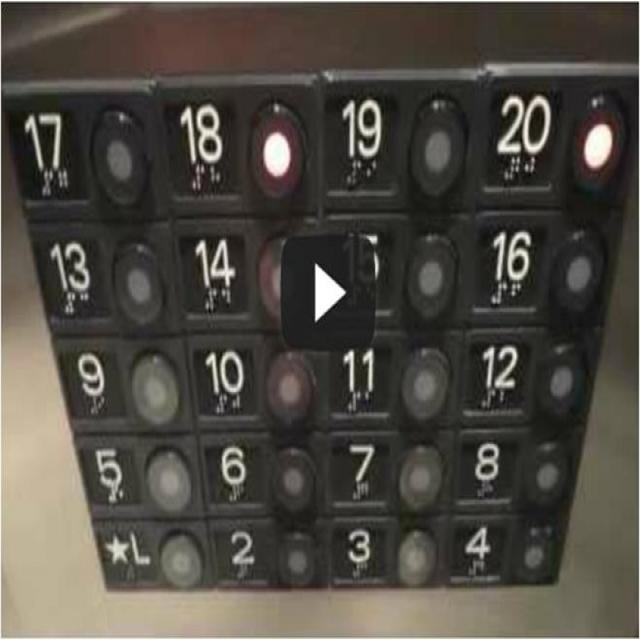10: (184, 323, 329, 432)
11: (325, 321, 463, 431)
12: (455, 322, 602, 429)
13: (21, 217, 183, 339)
14: (166, 209, 334, 339)
15: (320, 208, 472, 337)
16: (474, 208, 624, 337)
17: (1, 71, 171, 221)
18: (159, 66, 329, 222)
19: (321, 65, 484, 216)
2: (204, 507, 329, 597)
20: (478, 59, 637, 212)
3: (322, 507, 457, 597)
4: (446, 508, 573, 596)
5: (69, 423, 203, 524)
6: (192, 423, 330, 520)
7: (322, 421, 462, 519)
8: (448, 421, 586, 515)
9: (48, 324, 196, 436)
L: (90, 506, 204, 598)
